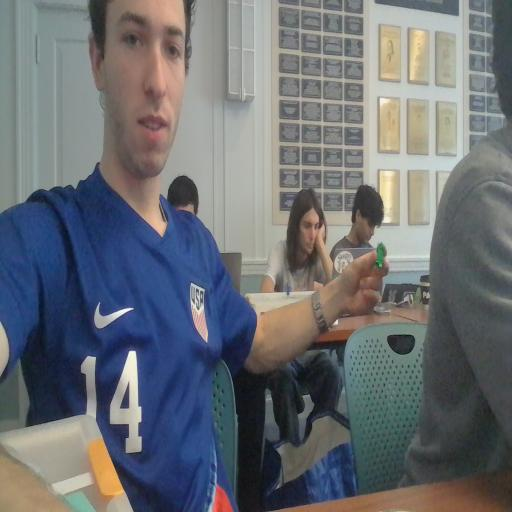green LEGO minifig: (373, 239, 387, 270)
